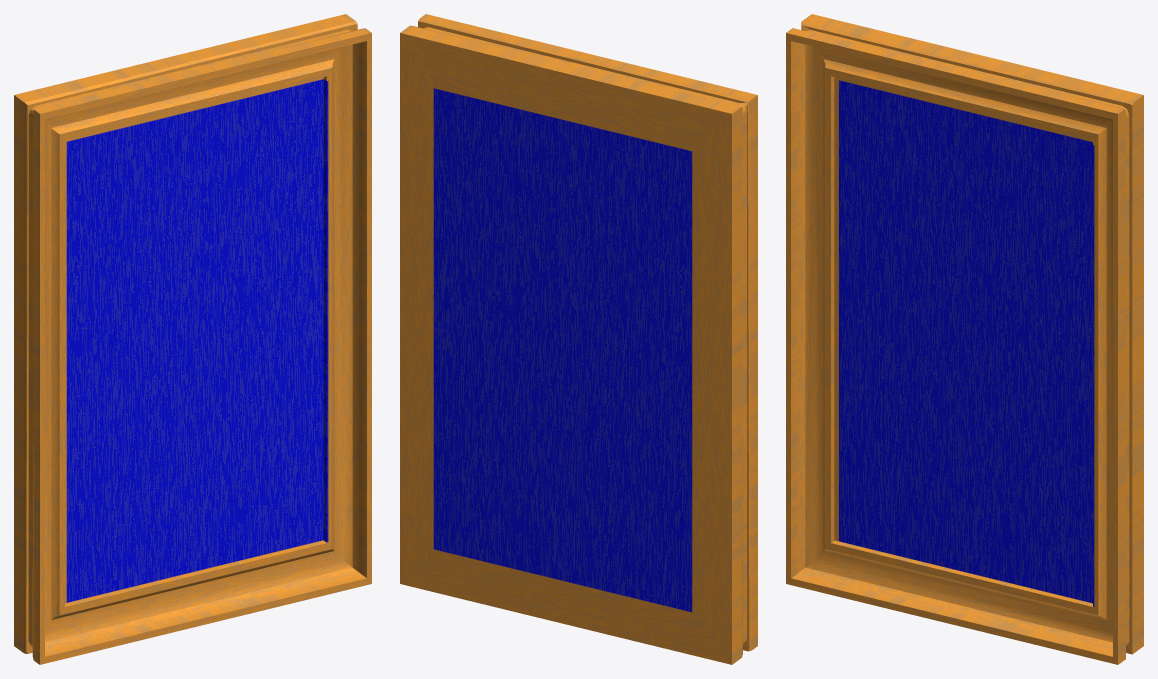
File: frame.fbx
The picture shows the model from 3 angles, left to right: view 1: azimuth 30°, elevation 25°; view 2: azimuth 150°, elevation 25°; view 3: azimuth 330°, elevation 25°; orthographic projection.
Visible parts, largest first — view 1: pCube3; view 2: pCube3; view 3: pCube3.
Boxes of the visible parts, x1,y1,x2,y2 form: pCube3: (14,14,371,664); pCube3: (400,14,757,664); pCube3: (786,14,1143,664).
Size of the model in its own units: 3.27 by 5.19 by 0.4414.
